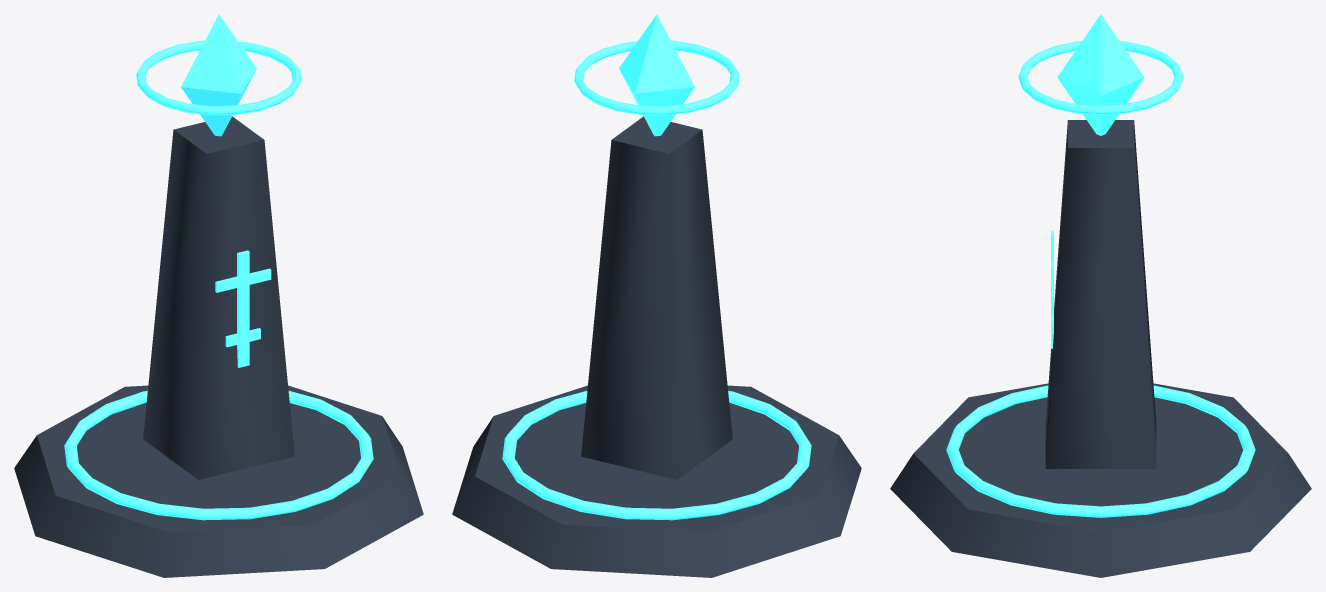
Rendered from obelisk.glb.
The picture shows the model from 3 angles, left to right: view 1: azimuth 30°, elevation 25°; view 2: azimuth 150°, elevation 25°; view 3: azimuth 270°, elevation 25°; orthographic projection.
Visible parts, largest first — view 1: obelisk; view 2: obelisk; view 3: obelisk.
Boxes of the visible parts, x1,y1,x2,y2 form: obelisk: [14, 14, 423, 577]; obelisk: [452, 14, 861, 577]; obelisk: [890, 14, 1311, 577].
Size of the model in its own units: 2.7 by 3.35 by 2.7.
